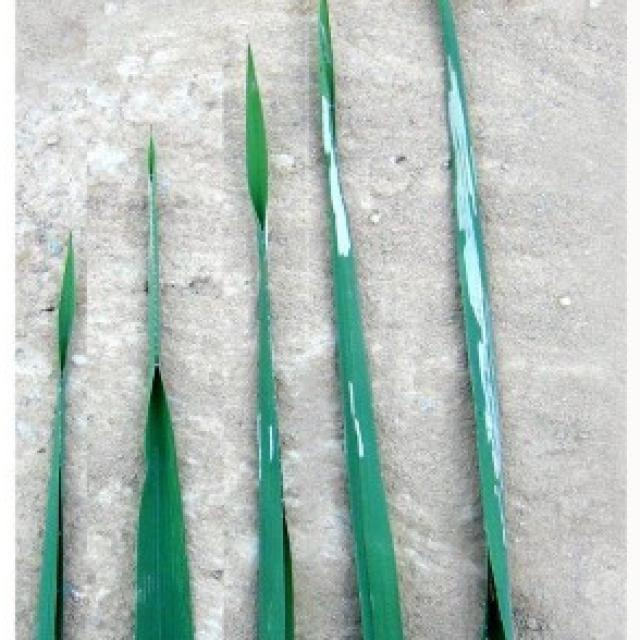rice leaf roller: (448, 44, 501, 505), (324, 94, 353, 281), (350, 383, 377, 457)
